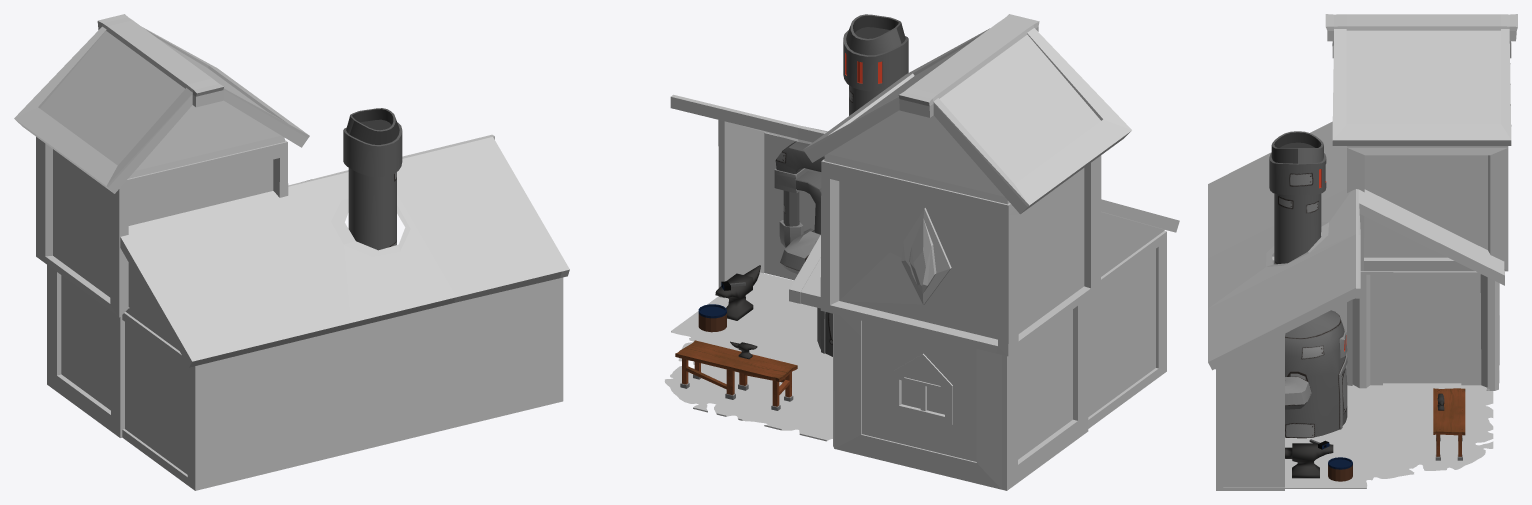
The model's file is Iron mongery.fbx.
3 views of the same model, side by side, from view 1: azimuth 30°, elevation 25°; view 2: azimuth 150°, elevation 25°; view 3: azimuth 270°, elevation 25° (orthographic). The views are drawn at different scales.
Parts seen in each view (by area): view 1: building, machine; view 2: building, lantai batu, machine, Meja, anvil, ember; view 3: building, machine, lantai batu, Meja, anvil, ember.
Part boxes in pixels (x1,y1,x2,y2): building: (14,14,569,490); machine: (343,108,402,250); building: (670,14,1179,490); lantai batu: (664,272,832,441); machine: (774,14,908,356); Meja: (675,340,797,410); anvil: (715,265,760,320); ember: (698,304,726,332); building: (1208,14,1517,490); machine: (1269,131,1347,438); lantai batu: (1223,383,1493,488); Meja: (1433,388,1465,460); anvil: (1285,439,1333,478); ember: (1328,457,1352,481).
Bounding box in the file's own units: 353 × 288 × 245.
